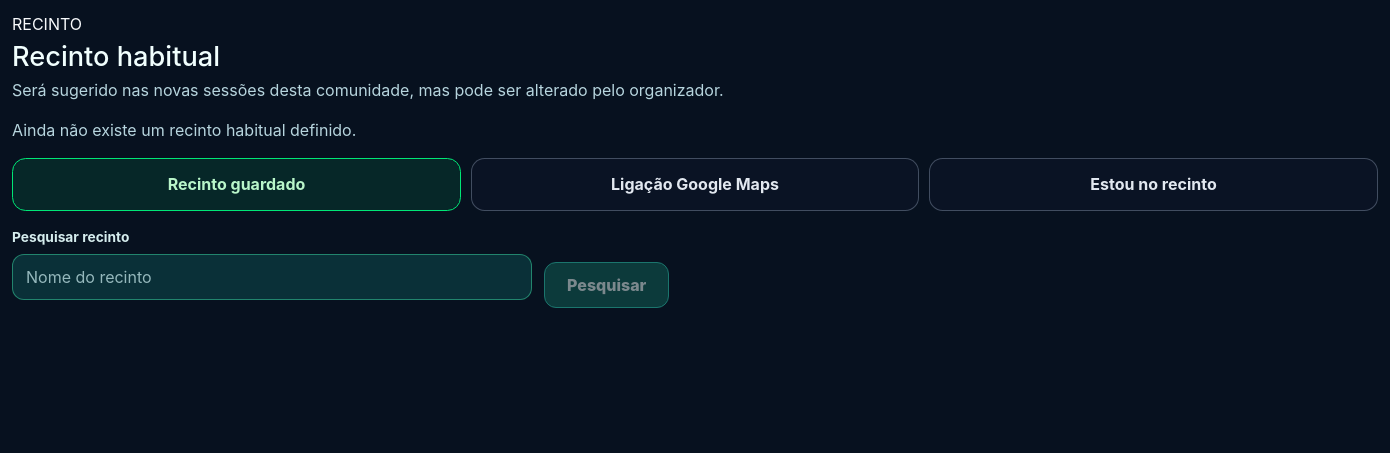
Test case: Community habitual venue picker — interactive template › lets an admin search a saved venue through the actual form
Step 1. Type "Campo" into the search field named "habitualVenueQuery" → x=272, y=278, box [12,254,532,300]
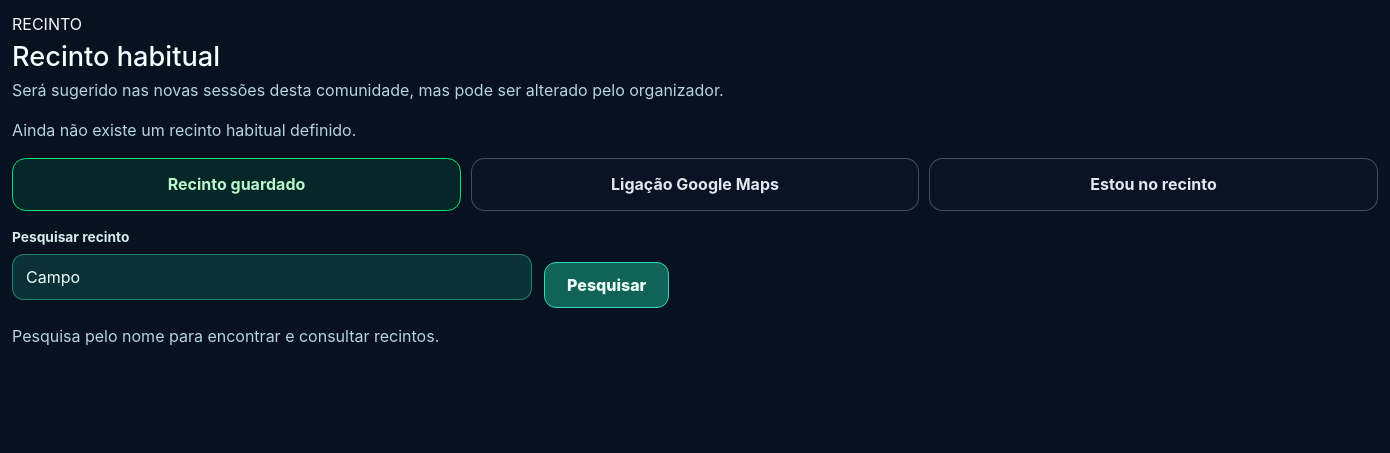
Check: the submit button is enabled
Step 2. Click the submit button → x=607, y=286, box [544,262,669,308]
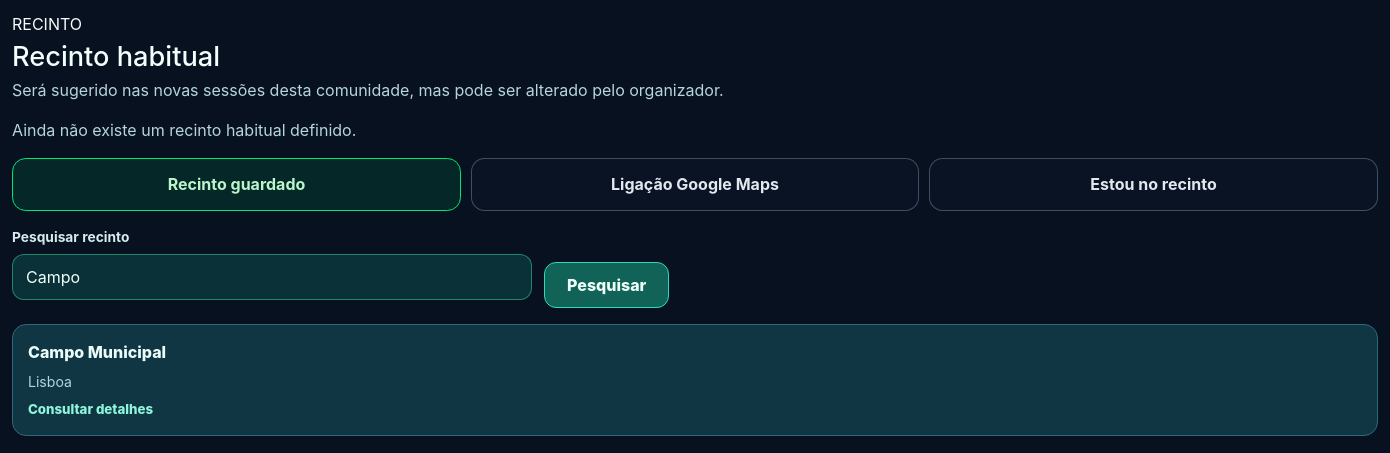
Check: the text with class "community-venue-result-name" reads "Campo Municipal", box [28,342,166,362]
